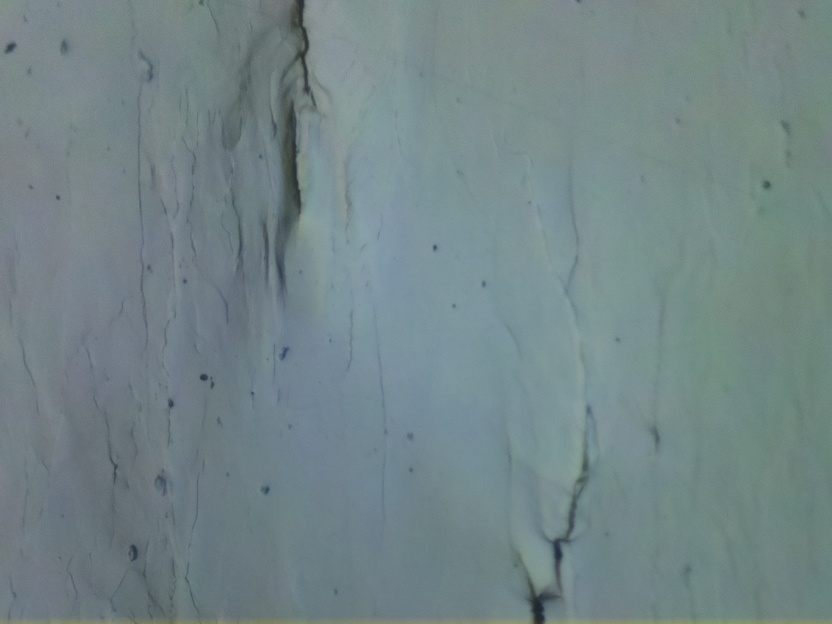crack: (505, 406, 594, 624), (293, 0, 333, 109), (287, 84, 308, 214)
